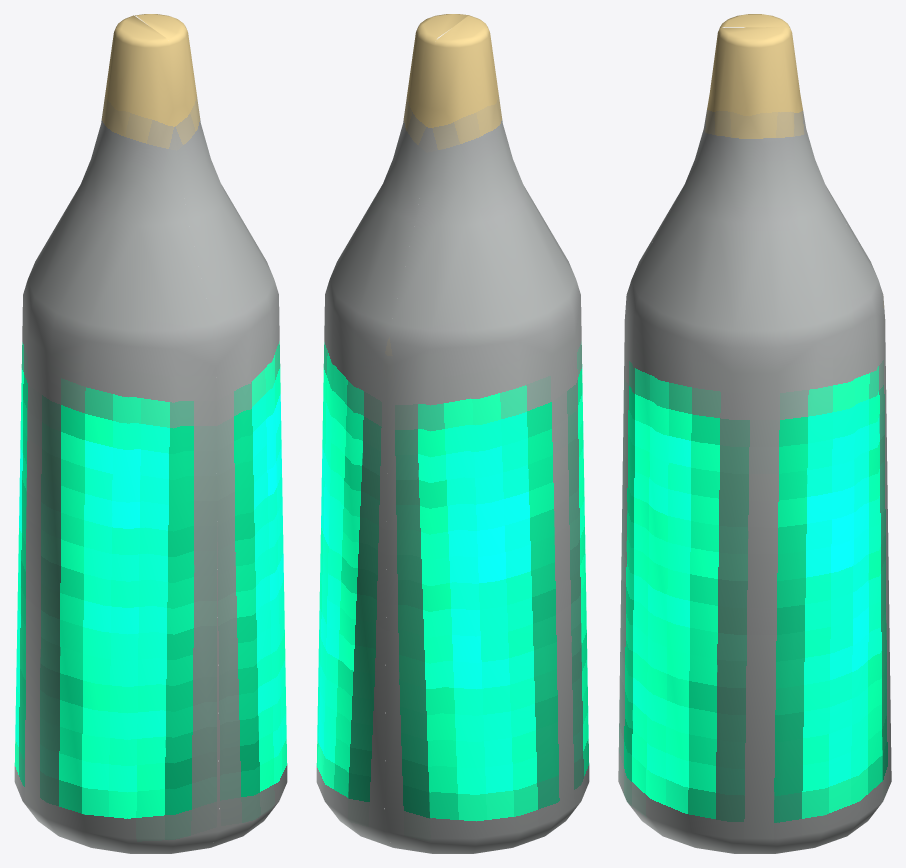
Rendered from bar_bottle_3_a.glb.
3 renders of one model, left to right at view 1: azimuth 30°, elevation 25°; view 2: azimuth 150°, elevation 25°; view 3: azimuth 270°, elevation 25°, orthographic.
Parts seen in each view (by area): view 1: bar_bottle_3; view 2: bar_bottle_3; view 3: bar_bottle_3.
Boxes of the visible parts, bbox=[...] form: bar_bottle_3: bbox=[14, 14, 287, 853]; bar_bottle_3: bbox=[316, 14, 589, 853]; bar_bottle_3: bbox=[618, 14, 891, 853].
Size of the model in its own units: 0.095 by 0.3033 by 0.0965.
1 material, 1 textured.
